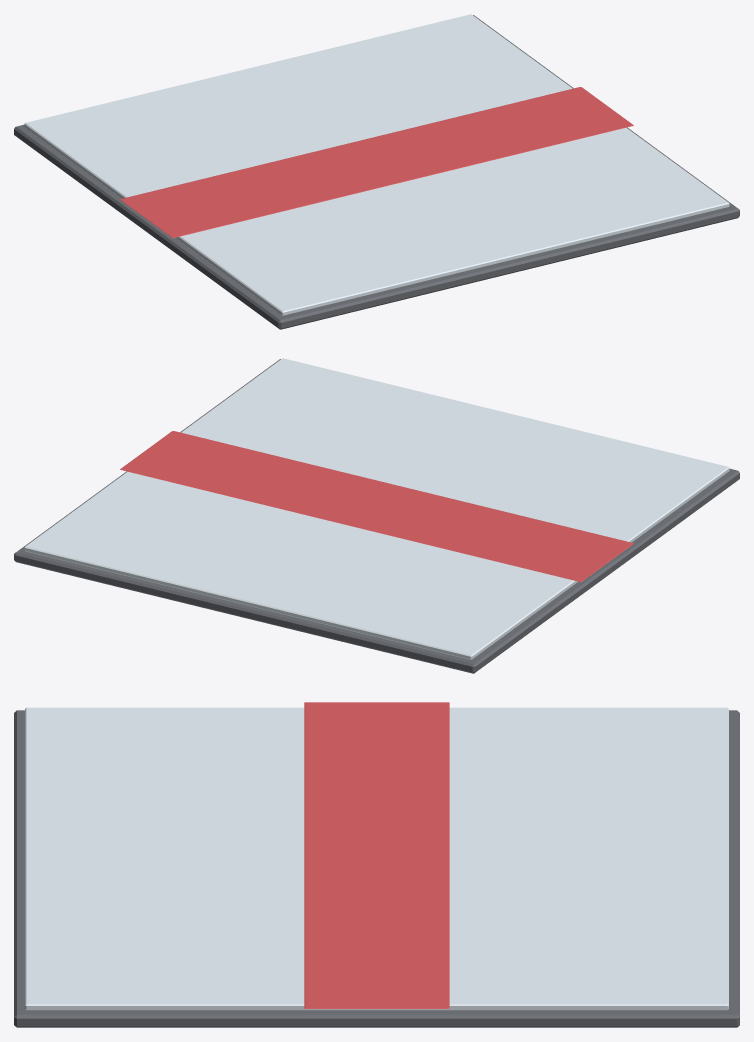
The model's file is ice-hockey-arena-and-locker-room-ice-surface-tile-cent-74b44ca2__33694.glb.
3 views of the same model, one above another, from view 1: azimuth 30°, elevation 25°; view 2: azimuth 150°, elevation 25°; view 3: azimuth 270°, elevation 25° (orthographic). The views are drawn at different scales.
Visible parts, largest first — view 1: ice-surface-tile-centre-line; view 2: ice-surface-tile-centre-line; view 3: ice-surface-tile-centre-line.
Boxes of the visible parts, x1=… form: ice-surface-tile-centre-line: x1=14, y1=14, x2=739, y2=329; ice-surface-tile-centre-line: x1=14, y1=358, x2=739, y2=673; ice-surface-tile-centre-line: x1=14, y1=702, x2=739, y2=1027.
Size of the model in its own units: 2 by 0.062 by 2.
